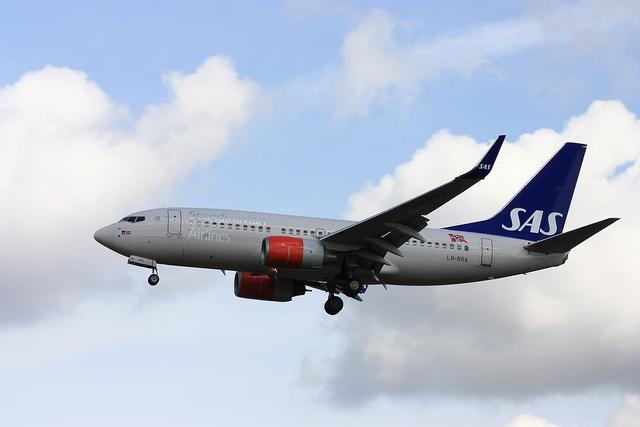airplane: (79, 138, 620, 319)
